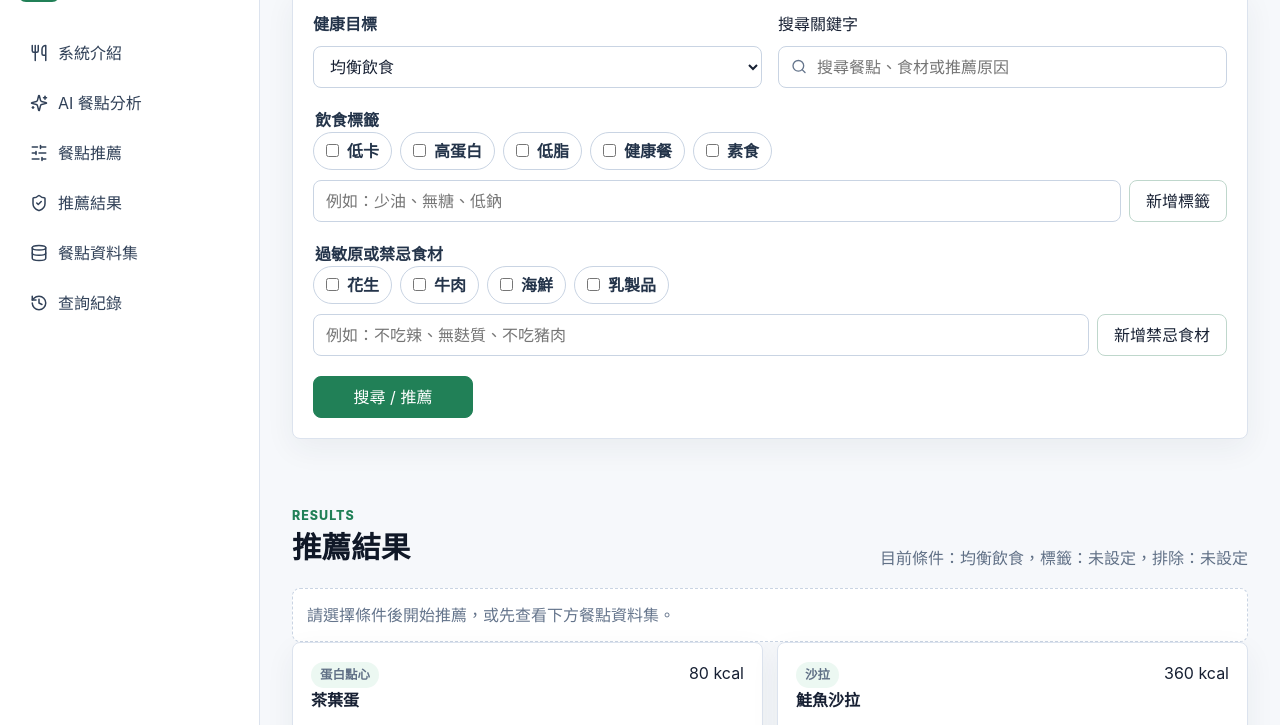
Scenario: App › sends custom pork exclusion and shows empty result when backend filters all meals
(page scrolled)
Type "豬肉" into the field named "自訂禁忌食材" at [701, 335], box [313,314,1089,356]
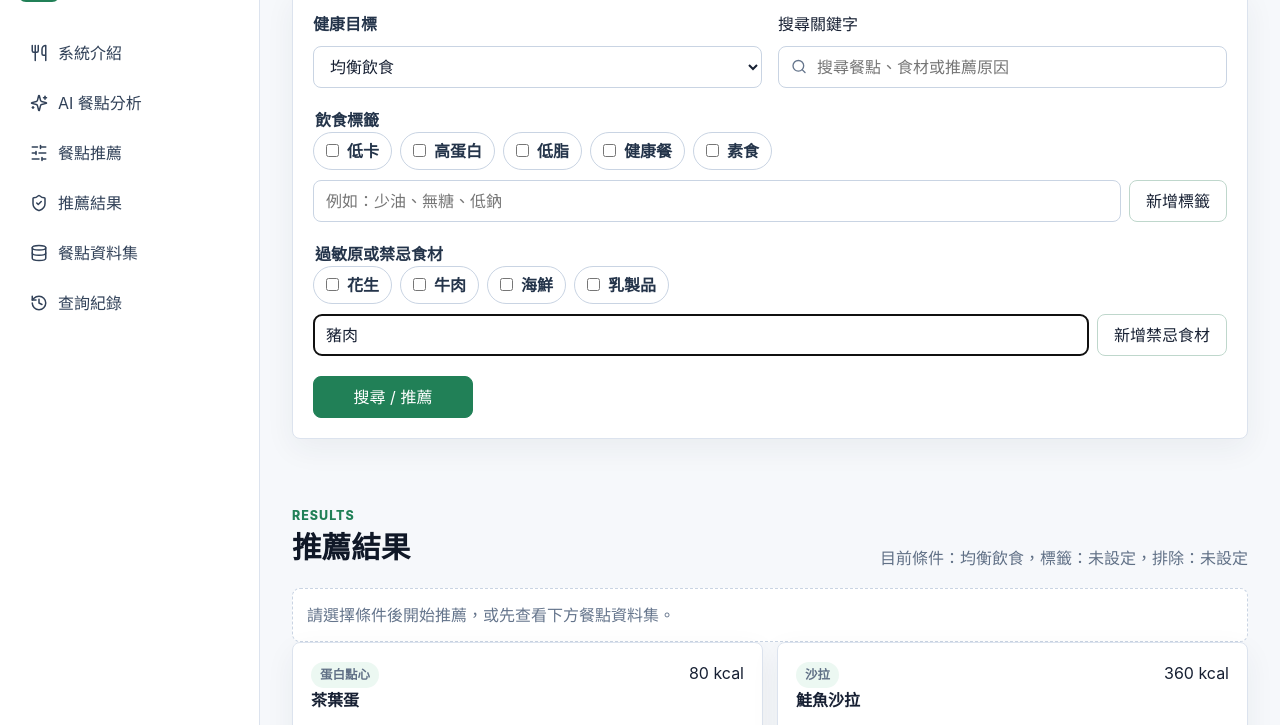
Click the button "新增禁忌食材" at [1162, 335], box [1097,314,1227,356]
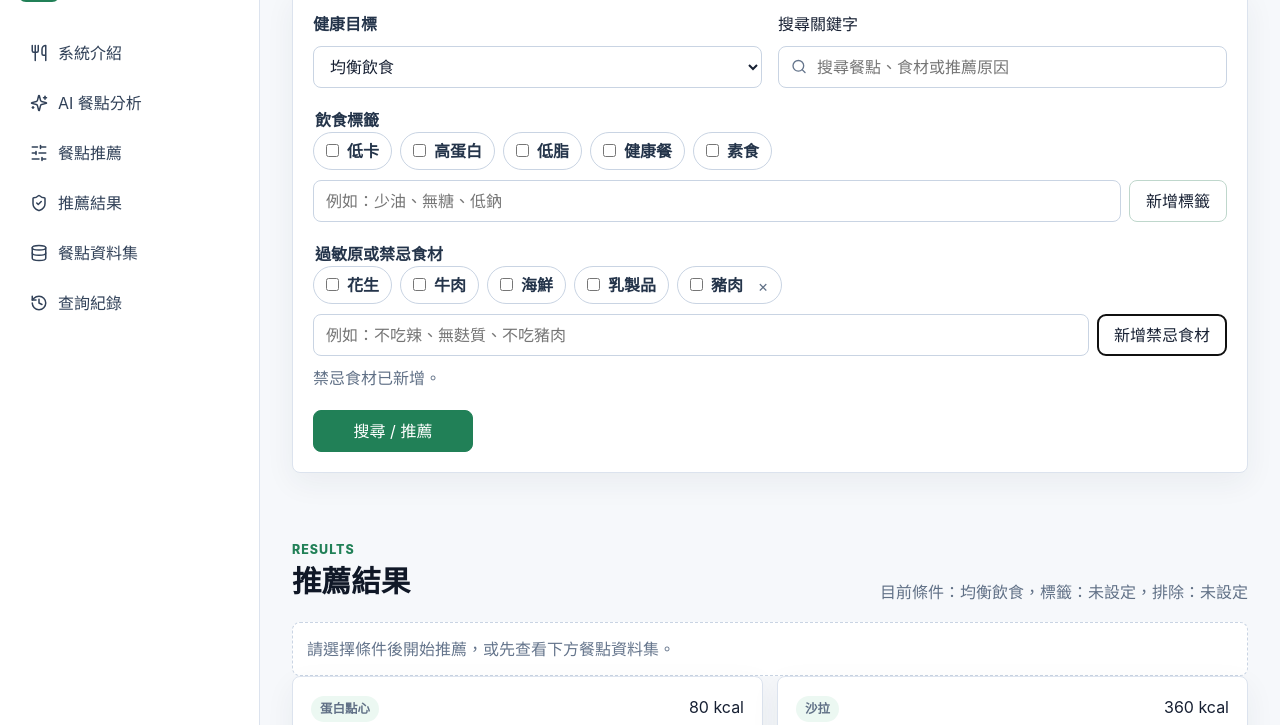
Click the checkbox labelled "豬肉" at [697, 285], box [690,278,703,291]
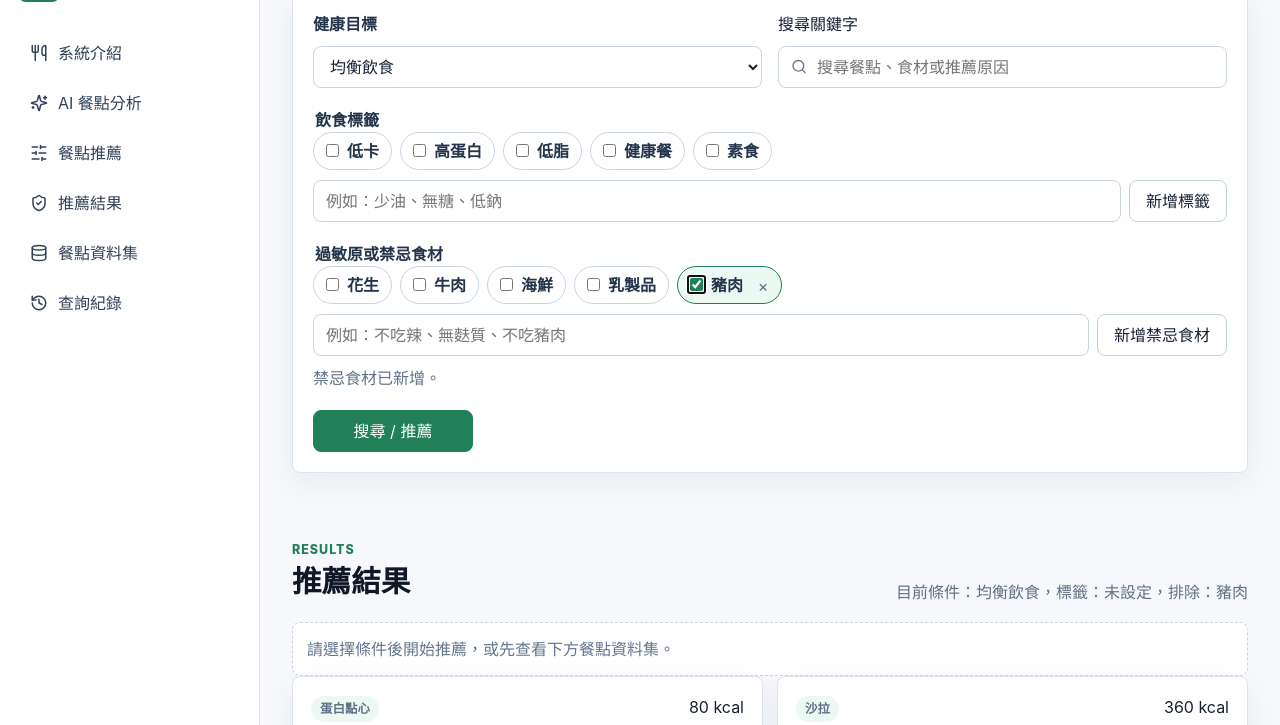
Click the button "搜尋 / 推薦" at [393, 431], box [313,410,473,452]
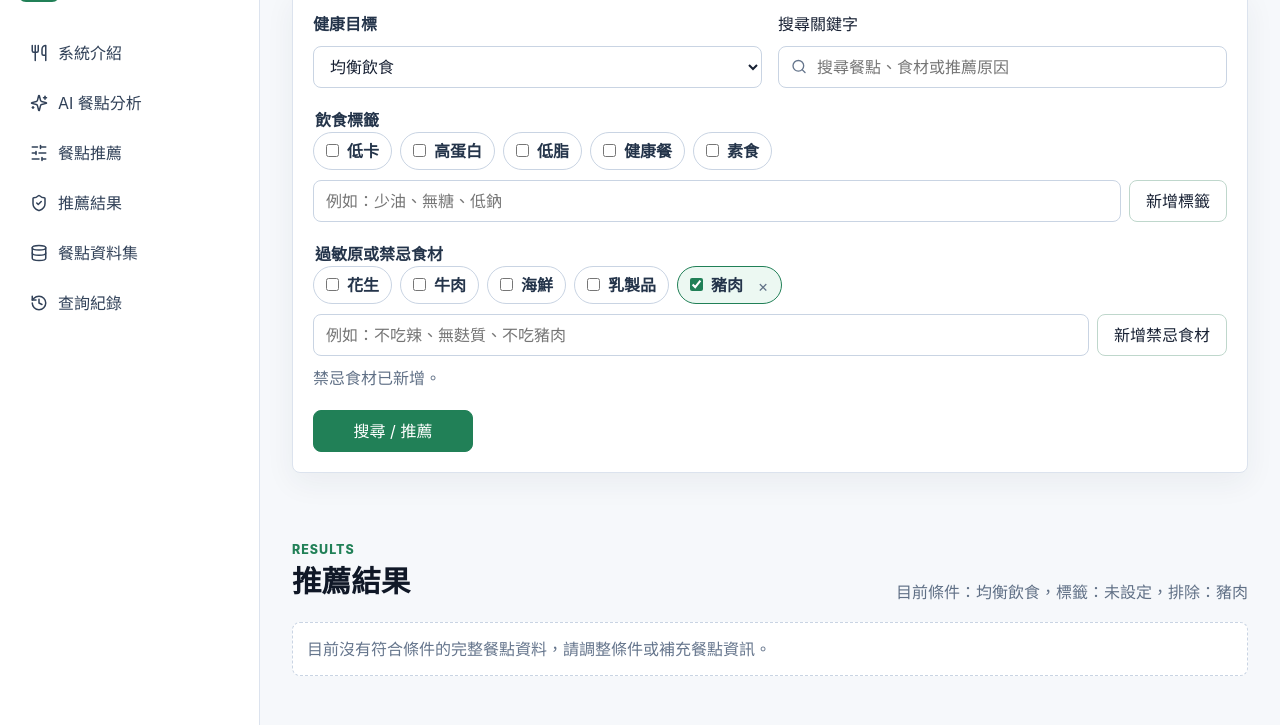
Expected: the text "目前沒有符合條件的完整餐點資料，請調整條件或補充餐點資訊。" is shown, [292,622,1248,676]
